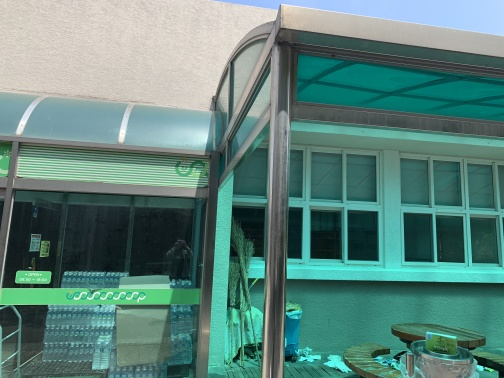Ara Hall: (14, 36, 494, 364)
